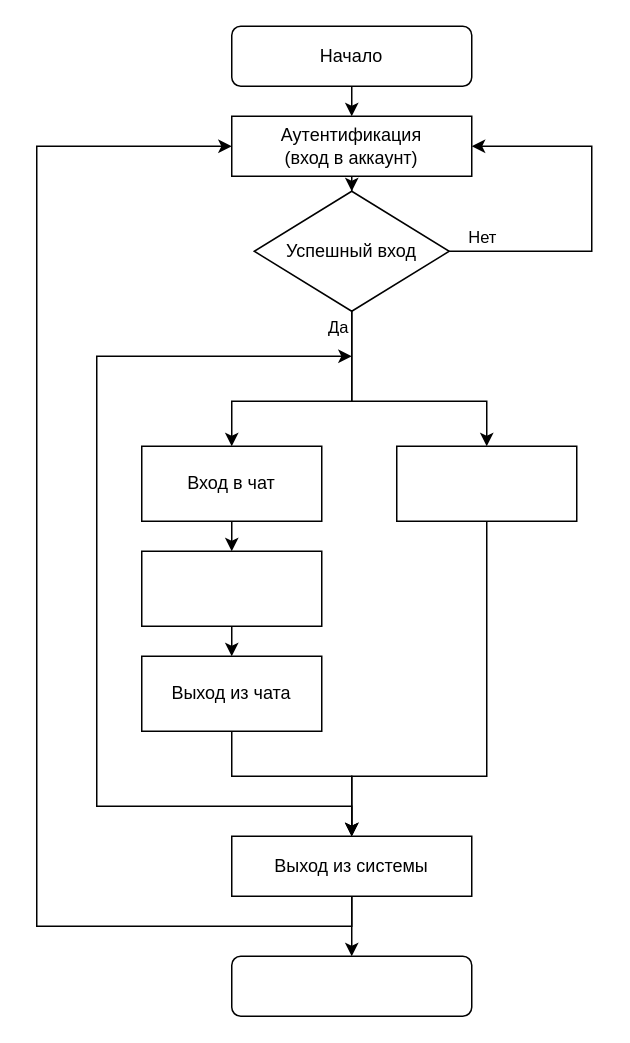
Some shapes in this 630 by 1043 pixel diagram are drawn without their labels. Each missing label, with the centre of its shape:
"Конец" goes at (x=351, y=985).
"Приём и отправка сообщений на странице чата" goes at (x=231, y=588).
"Просмотр истории сообщений" goes at (x=486, y=483).
